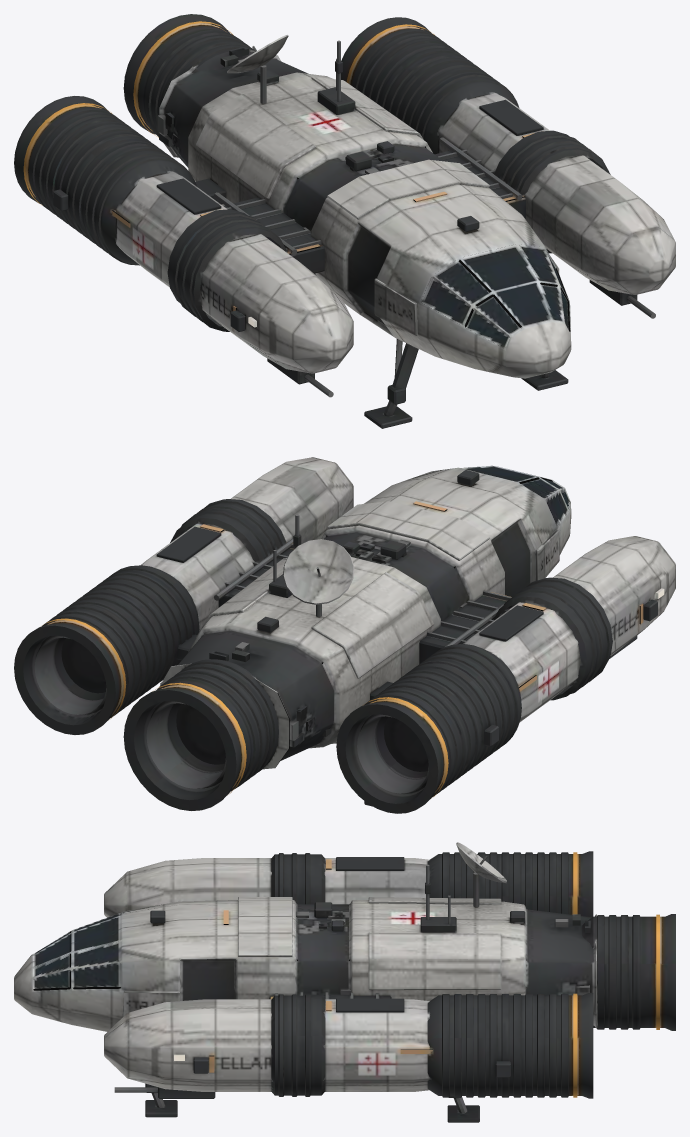
Rendered from ship-stellar.glb.
3 renders of one model, top to bottom at view 1: azimuth 30°, elevation 25°; view 2: azimuth 150°, elevation 25°; view 3: azimuth 270°, elevation 25°, orthographic. The views are drawn at different scales.
Parts seen in each view (by area): view 1: ShipStellar_Body, Gear_Mesh; view 2: ShipStellar_Body; view 3: ShipStellar_Body, Gear_Mesh.
Part boxes in pixels (x1,y1,x2,y2): ShipStellar_Body: [14, 14, 675, 397]; Gear_Mesh: [364, 339, 568, 428]; ShipStellar_Body: [14, 457, 675, 813]; ShipStellar_Body: [14, 842, 675, 1098]; Gear_Mesh: [145, 1083, 479, 1122].
Size of what is drawn, in the model's own units: 12.64 by 6.76 by 18.4.
Materials: 2 (2 with a texture image).
